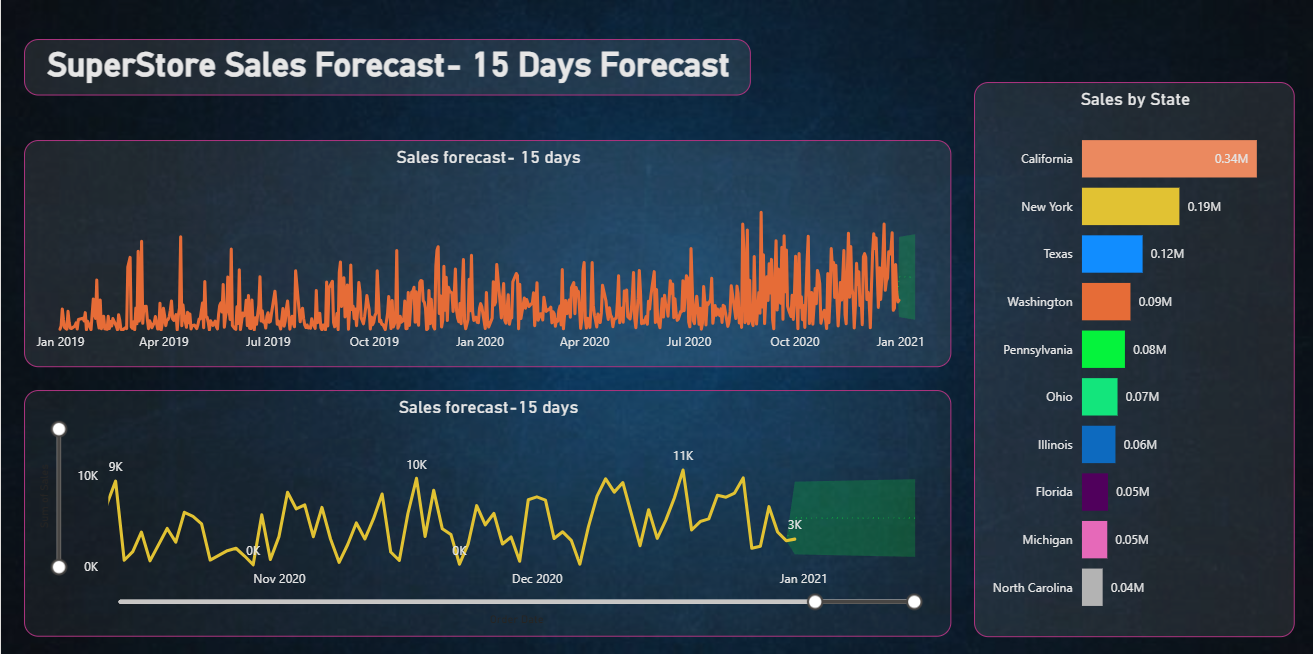

The dashboard page shown, as its layout file describes it:
{"tool":"powerbi","page":{"name":"Page 2","canvas":[1280,720],"ordinal":1},"visuals":[{"type":"lineChart","title":"Sales forecast- 15 days","fields":{"Y":["Sum(SuperStore_Sales_Dataset.Sales)"],"Category":["SuperStore_Sales_Dataset.Order Date"]},"box":[22.2,173.8,901.8,220.8],"z":0},{"type":"lineChart","title":"Sales forecast-15 days","fields":{"Y":["Sum(SuperStore_Sales_Dataset.Sales)"],"Category":["SuperStore_Sales_Dataset.Order Date"]},"box":[22.2,417.6,901.8,240.3],"z":1000},{"type":"barChart","title":"Sales by State","fields":{"Category":["SuperStore_Sales_Dataset.State"],"Y":["Sum(SuperStore_Sales_Dataset.Sales)"]},"box":[946.4,117.7,312.2,539.8],"z":1001},{"type":"textbox","title":"SuperStore Sales Forecast- 15 Days Forecast","box":[22.4,75.9,707.1,55.4],"z":1002}]}

Visuals, with their boxes on the page's 1280x720 design canvas (x1, y1, x2, y2). These are canvas units, not pixel positions in the 1313x654 screenshot, which may show the page scaled, cropped or inside an application window:
"Sales forecast- 15 days" lineChart: 22/174/924/395
"Sales forecast-15 days" lineChart: 22/418/924/658
"Sales by State" barChart: 946/118/1259/658
"SuperStore Sales Forecast- 15 Days Forecast" textbox: 22/76/730/131
